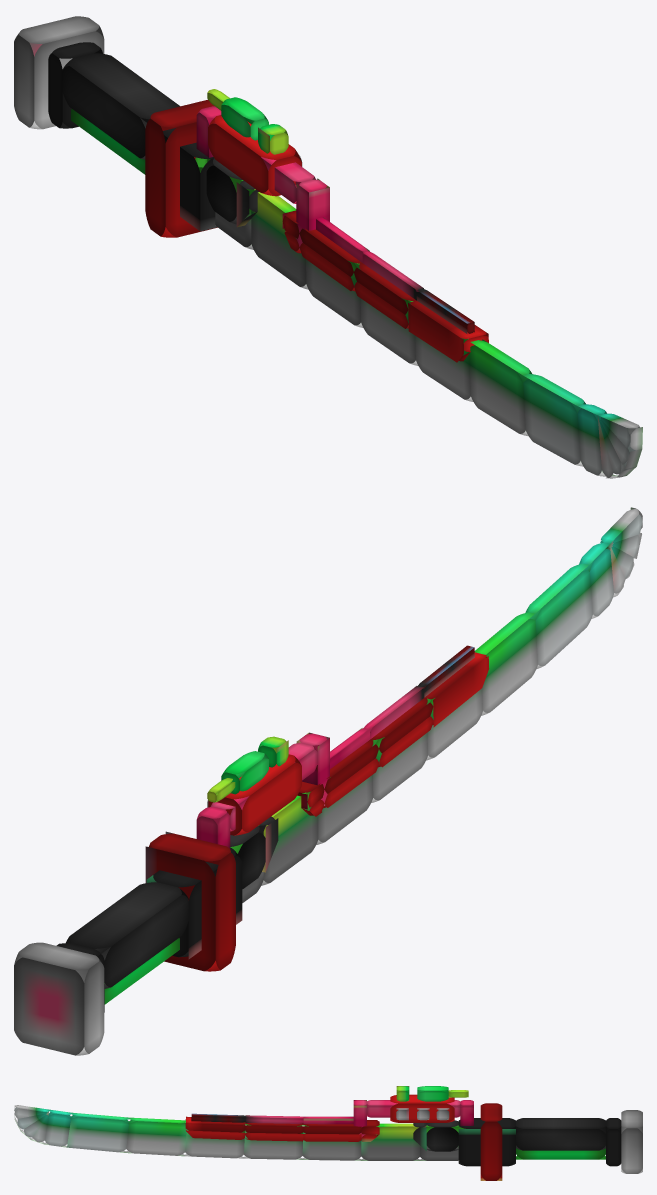
Rendered from S2_sword.fbx.
3 renders of one model, top to bottom at view 1: azimuth 30°, elevation 25°; view 2: azimuth 150°, elevation 25°; view 3: azimuth 270°, elevation 25°, orthographic. The views are drawn at different scales.
Parts seen in each view (by area): view 1: Sword03:Mesh; view 2: Sword03:Mesh; view 3: Sword03:Mesh.
Part boxes in pixels (x1,y1,x2,y2): Sword03:Mesh: (14, 16, 642, 478); Sword03:Mesh: (14, 507, 642, 1055); Sword03:Mesh: (14, 1086, 642, 1180).
Size of the model in its own units: 0.0828 by 1.2 by 0.1752.
